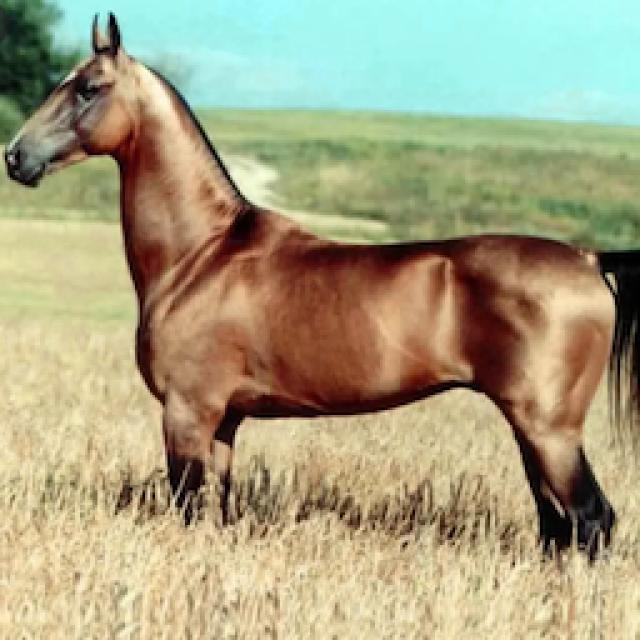Horse: (0, 8, 638, 570)
